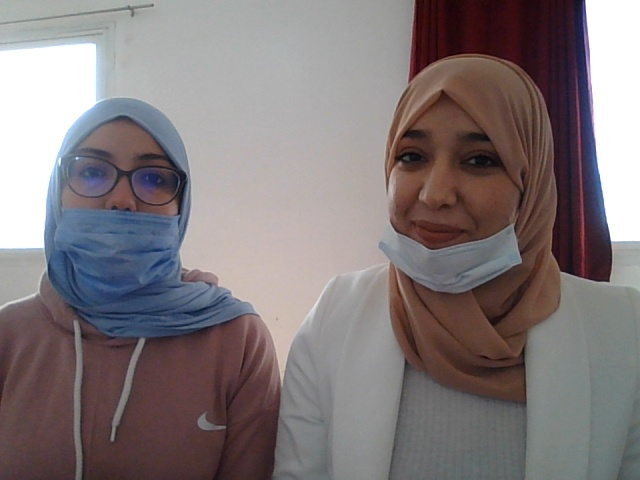mask_weared_incorrect: (372, 69, 542, 294), (34, 97, 191, 302)
